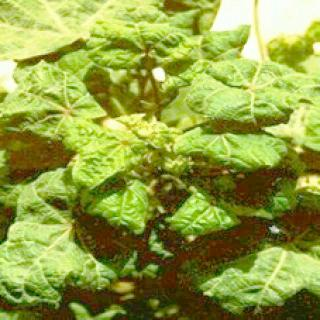curl: (102, 123, 268, 215), (202, 54, 291, 111), (22, 55, 82, 133), (97, 28, 187, 76)
